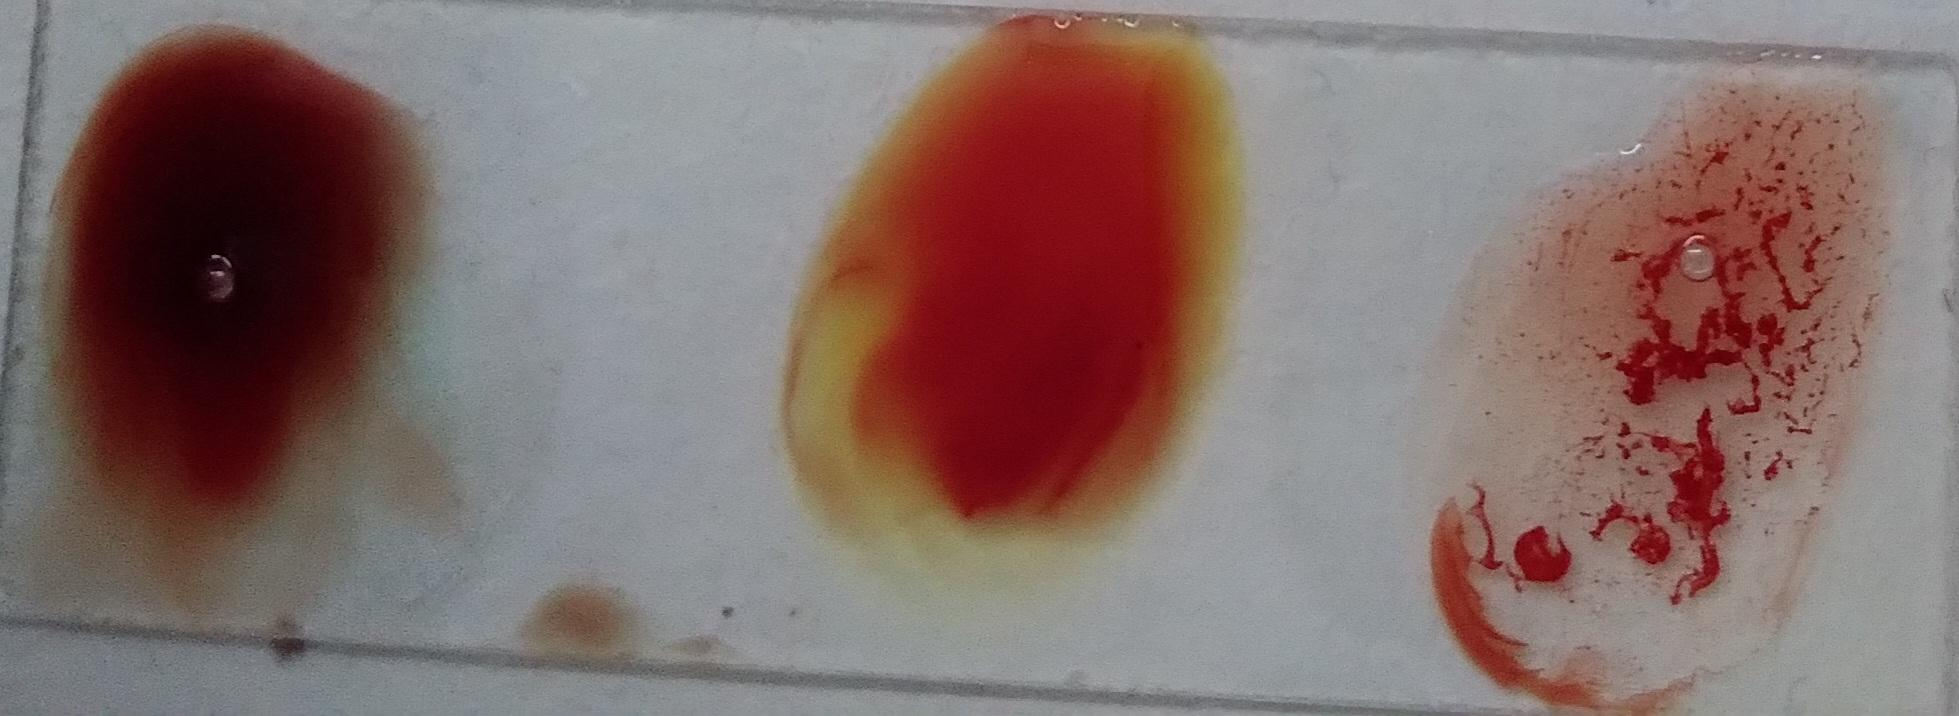D: (105, 0, 487, 651)
